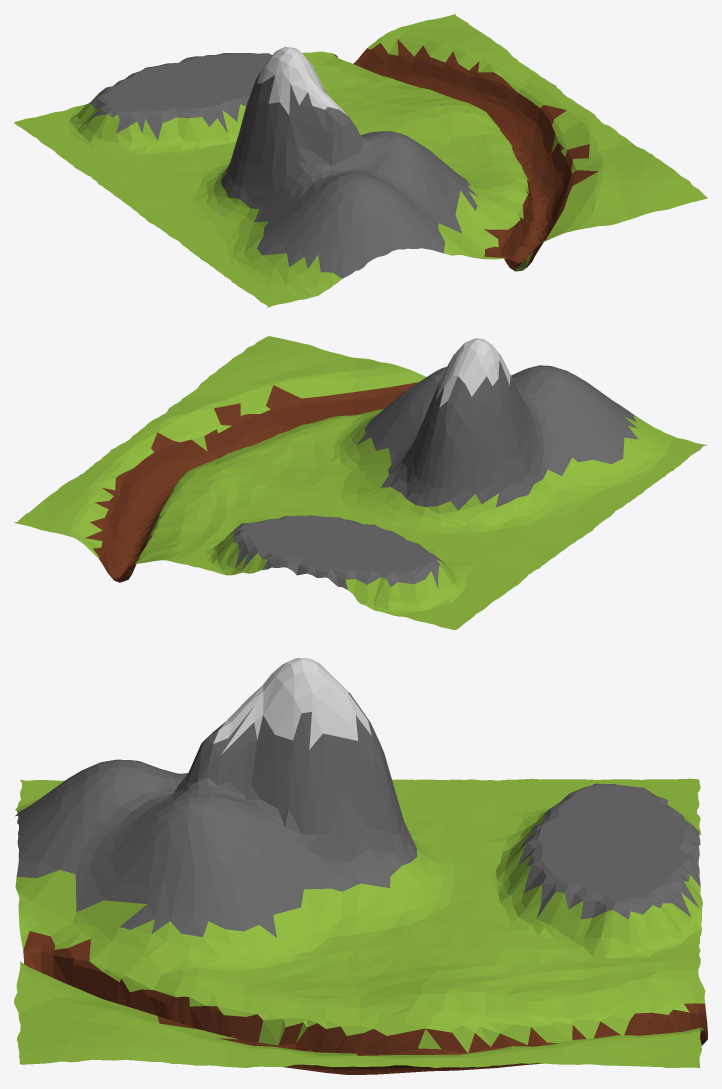
The model's file is landscape_attempt 1.fbx.
3 renders of one model, top to bottom at view 1: azimuth 30°, elevation 25°; view 2: azimuth 150°, elevation 25°; view 3: azimuth 270°, elevation 25°, orthographic. The views are drawn at different scales.
Parts seen in each view (by area): view 1: Forest01-no-decimate.001; view 2: Forest01-no-decimate.001; view 3: Forest01-no-decimate.001.
Boxes of the visible parts, x1,y1,x2,y2 form: Forest01-no-decimate.001: (14,14,707,307); Forest01-no-decimate.001: (14,336,706,629); Forest01-no-decimate.001: (14,658,707,1074).
Bounding box in the file's own units: 15115 × 6190 × 15257.
